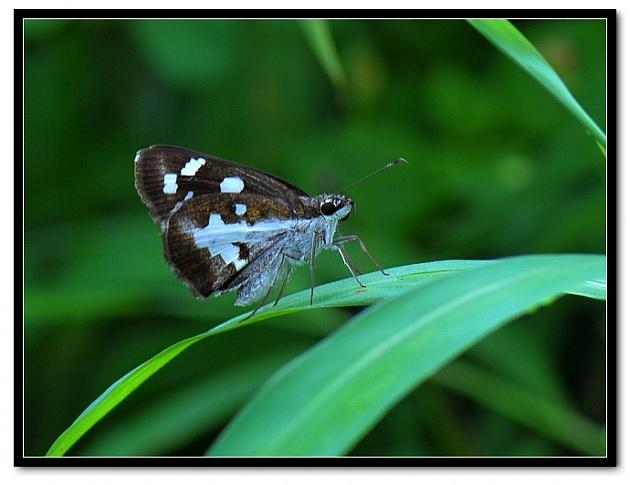Hesperiidae: (130, 136, 409, 299)
